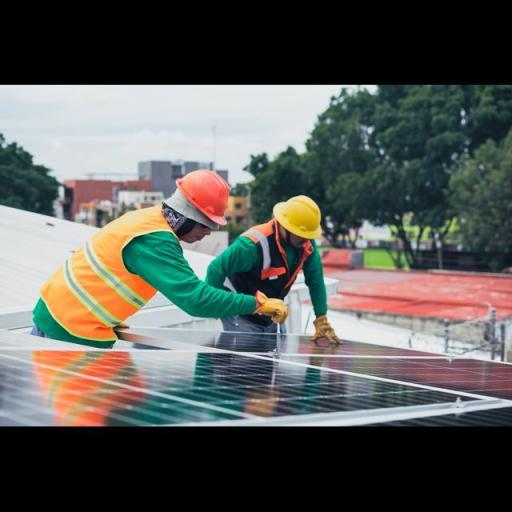gloves: (247, 286, 295, 324), (310, 311, 346, 344)
helmet: (174, 163, 236, 230), (268, 188, 326, 242)
vest: (39, 202, 177, 344), (239, 214, 319, 296)
